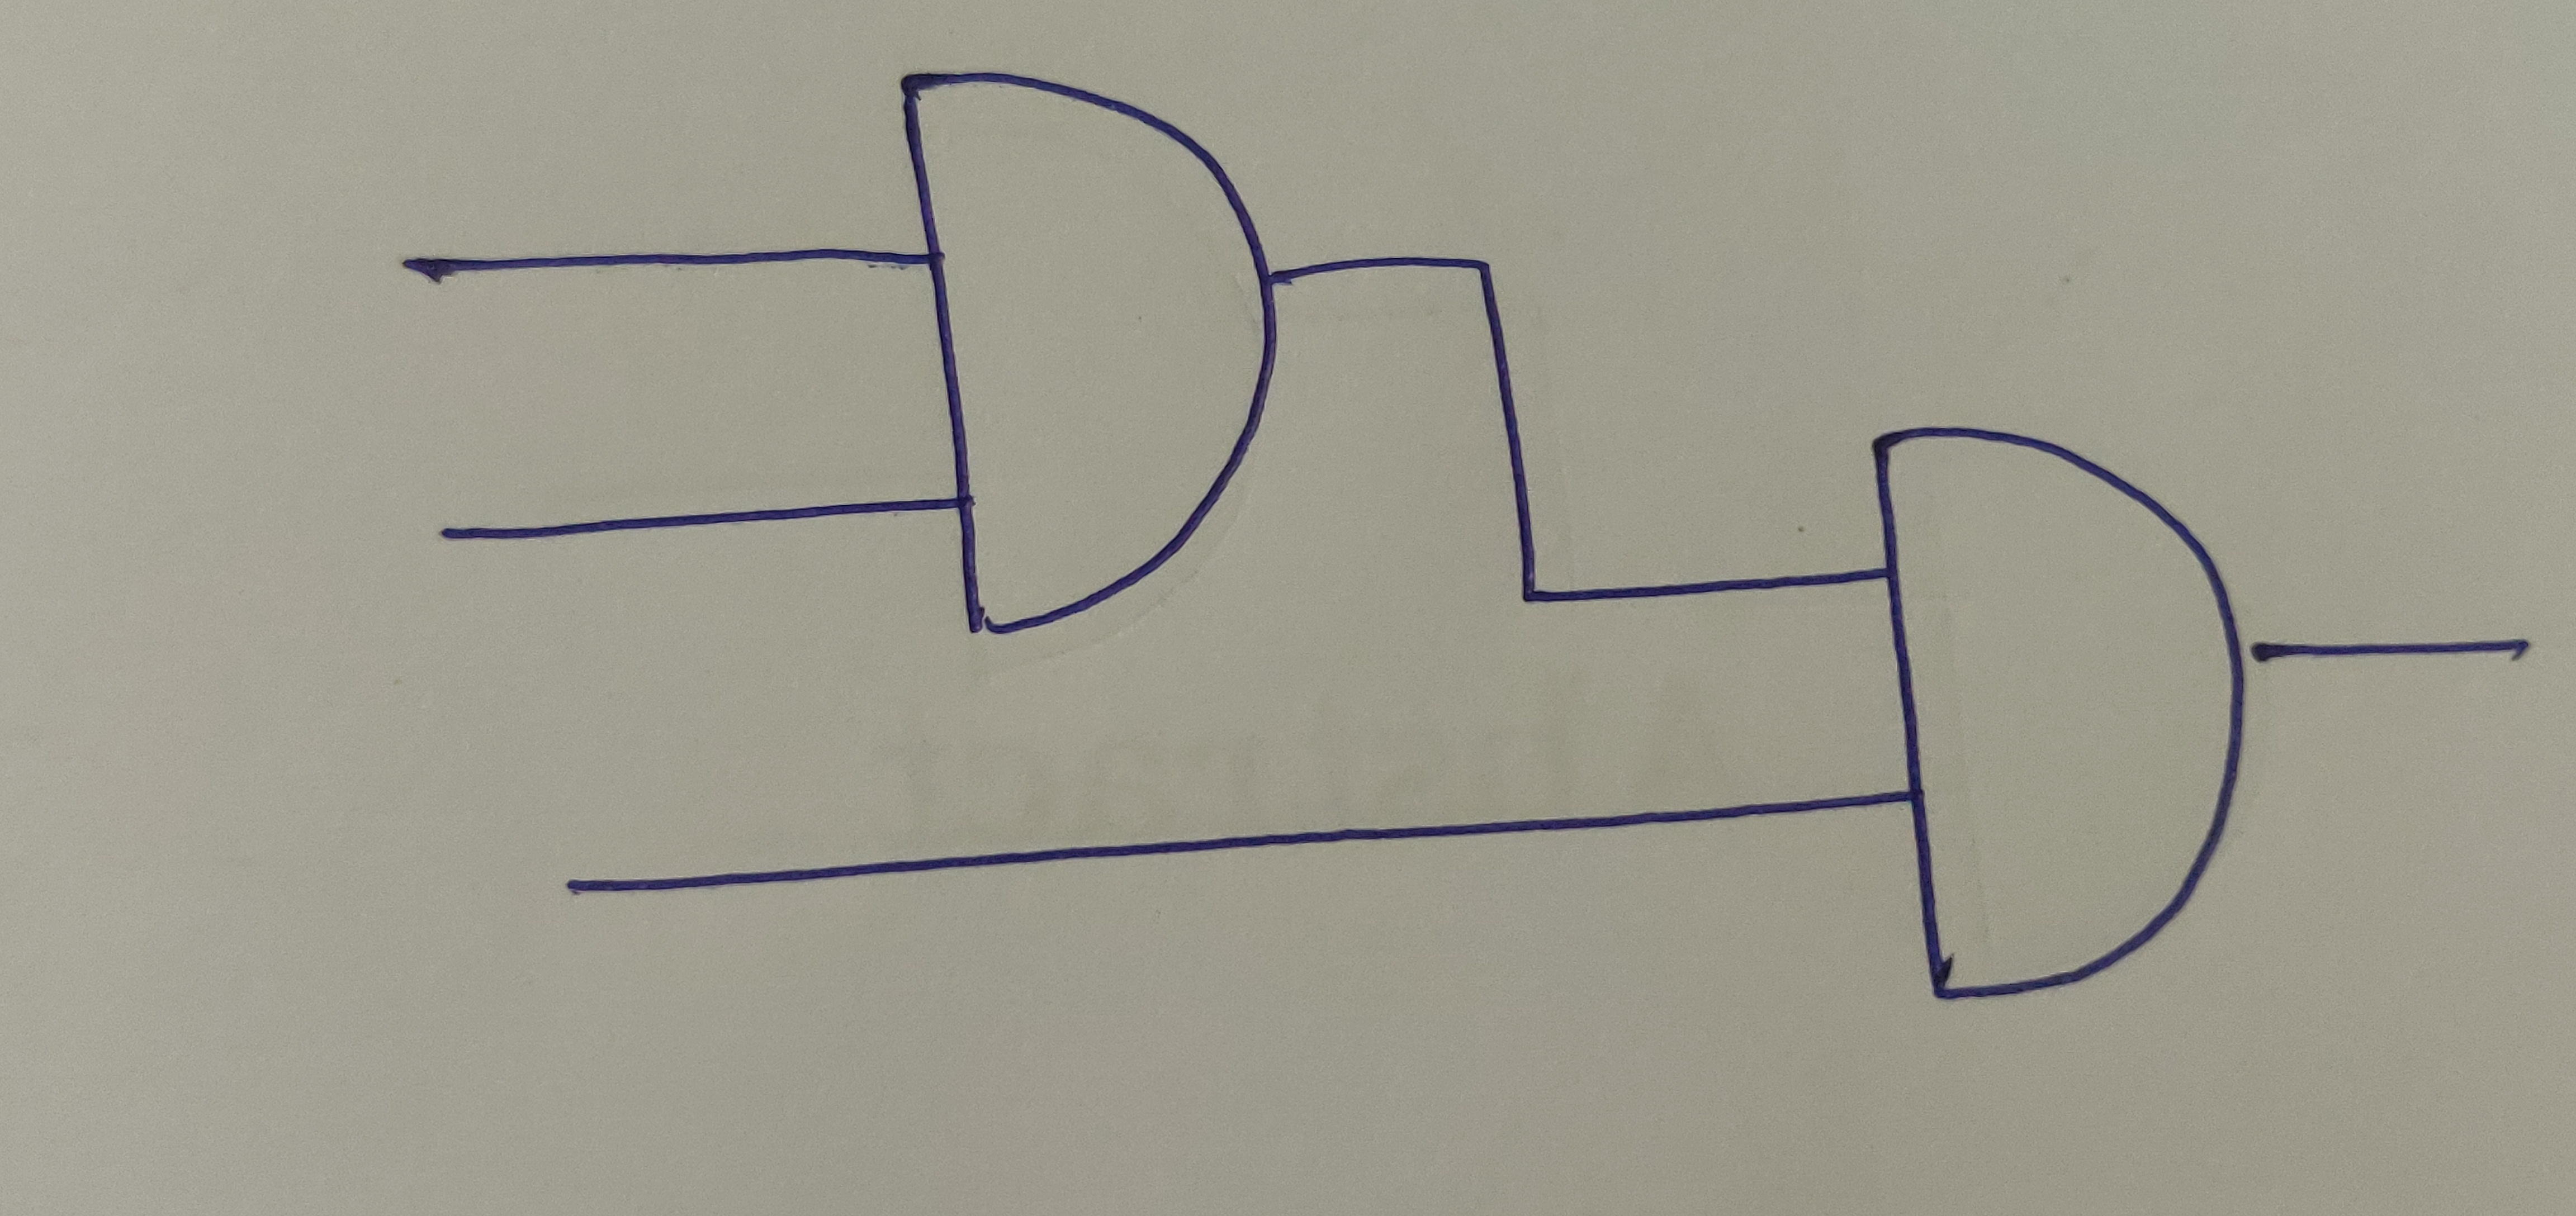and: (1861, 421, 2249, 1004), (892, 66, 1280, 638)
